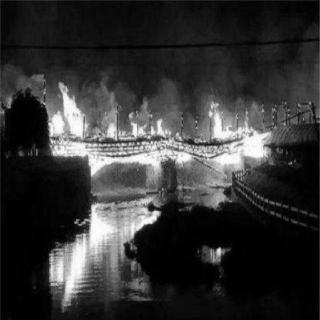Fire: (36, 74, 272, 174)
